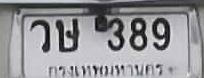3: (106, 17, 123, 50)
8: (129, 16, 146, 50)
9: (151, 16, 169, 50)
A37: (30, 18, 50, 52)
A39: (55, 16, 79, 52)
BKK: (44, 61, 165, 78)
